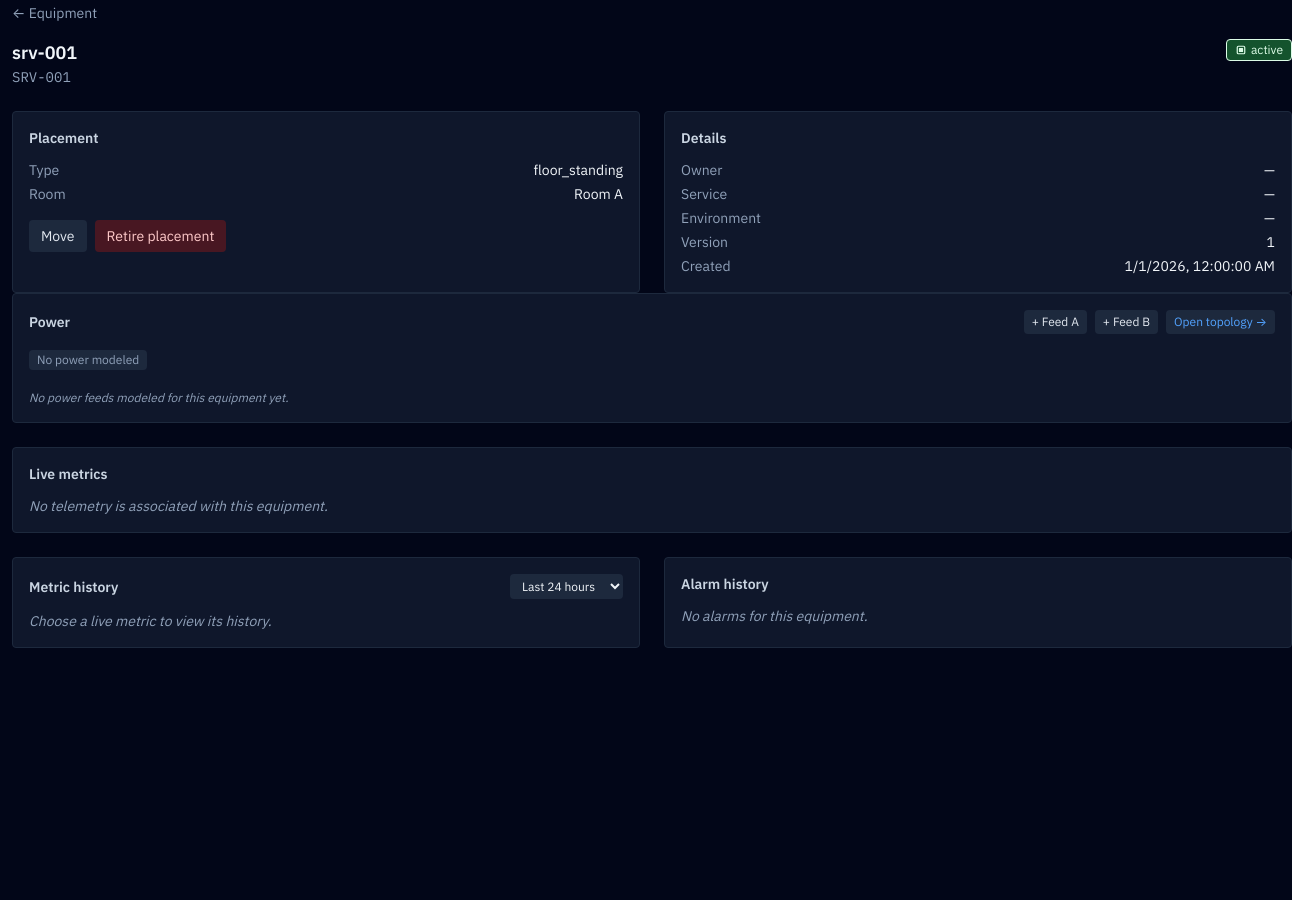
EquipmentDetailPage — move mutation error announcement › announces a 409 move conflict immediately via role=alert, not silent red text
The image size is (1292, 900).
Click the button "Move" at {"x": 58, "y": 236}, box [29,220,87,252]
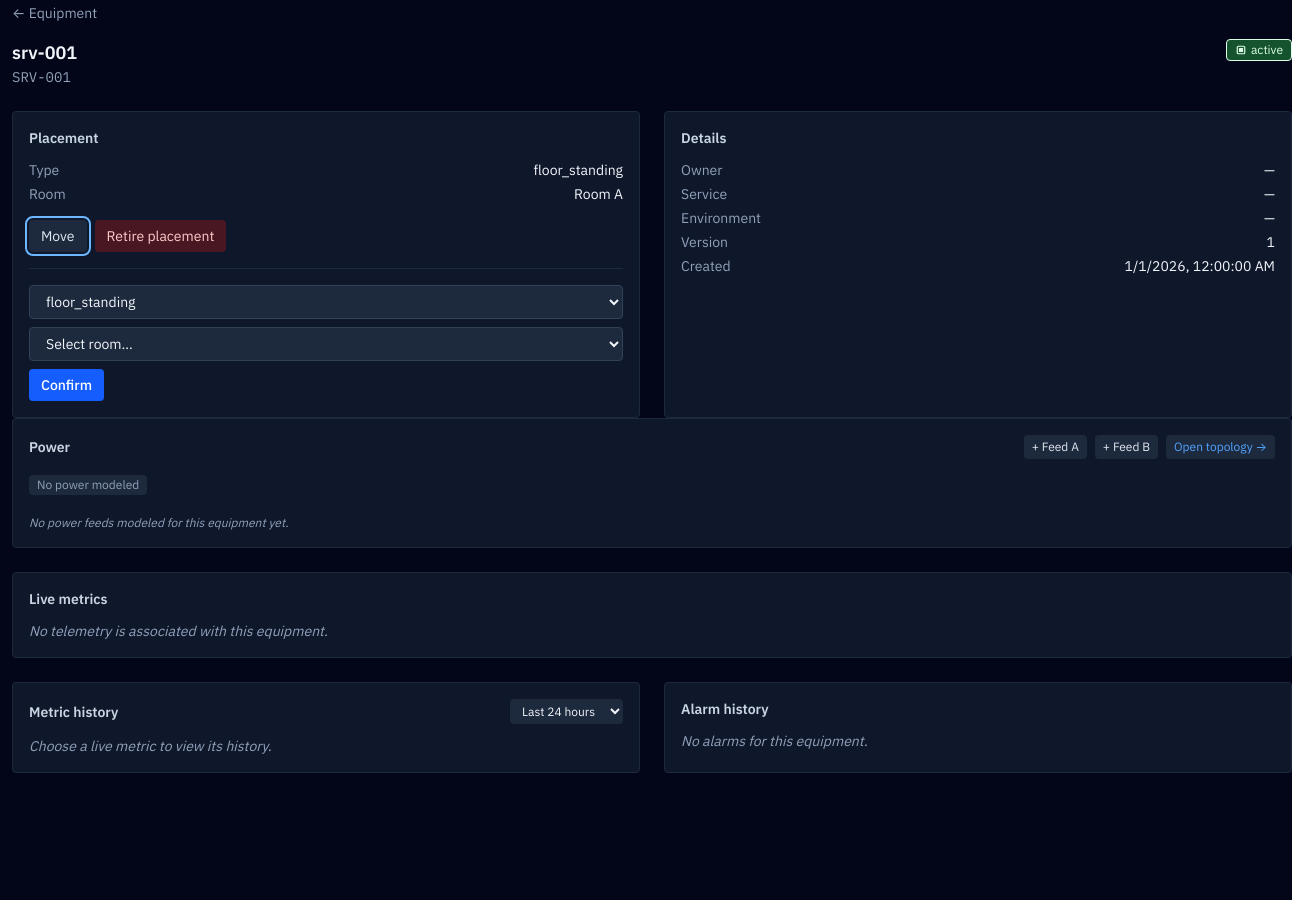
Select "Room A (A)" in the dropdown named "Placement room" at {"x": 326, "y": 344}, box [29,327,623,361]
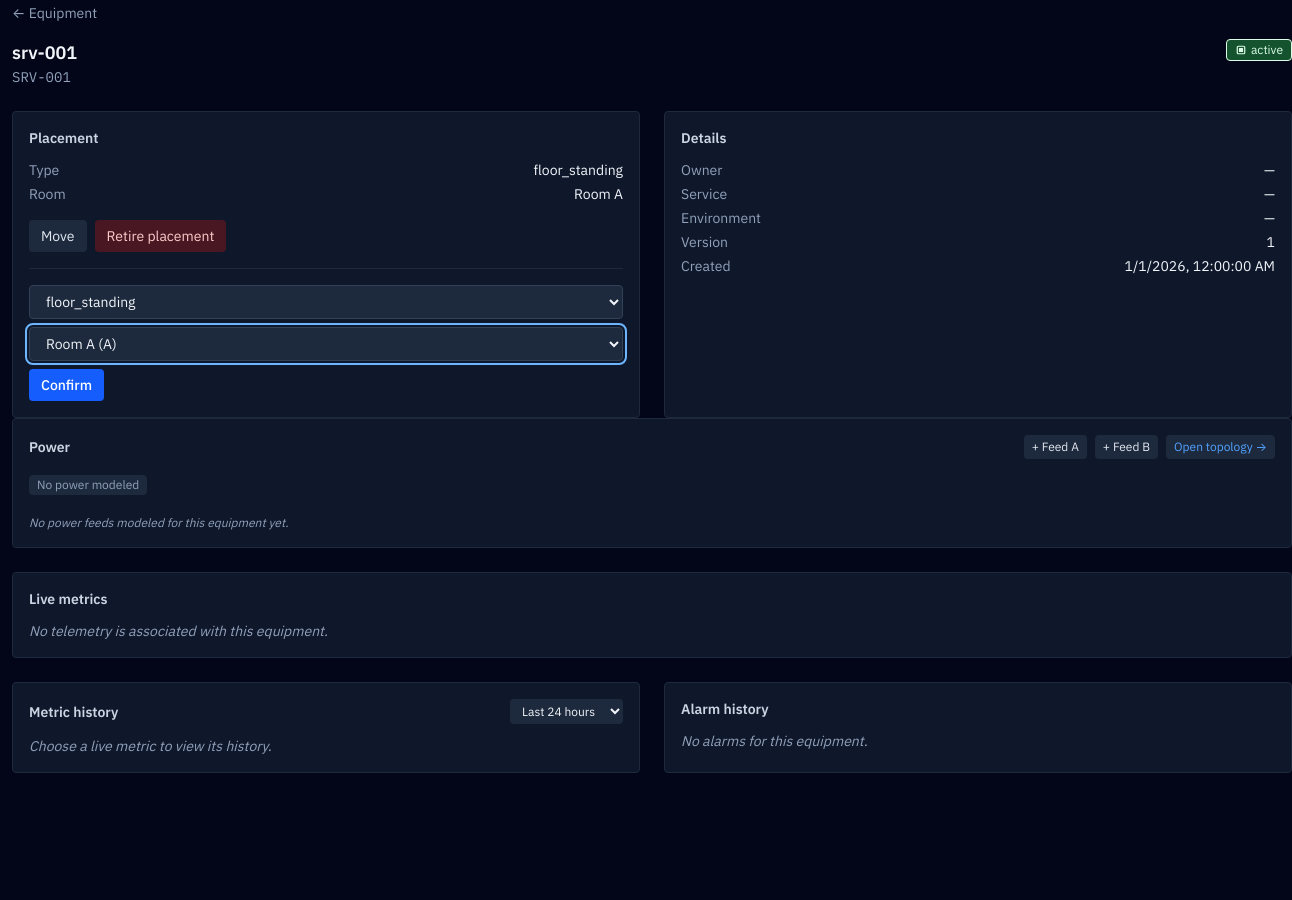
Click the button "Confirm" at {"x": 66, "y": 385}, box [29,369,104,401]
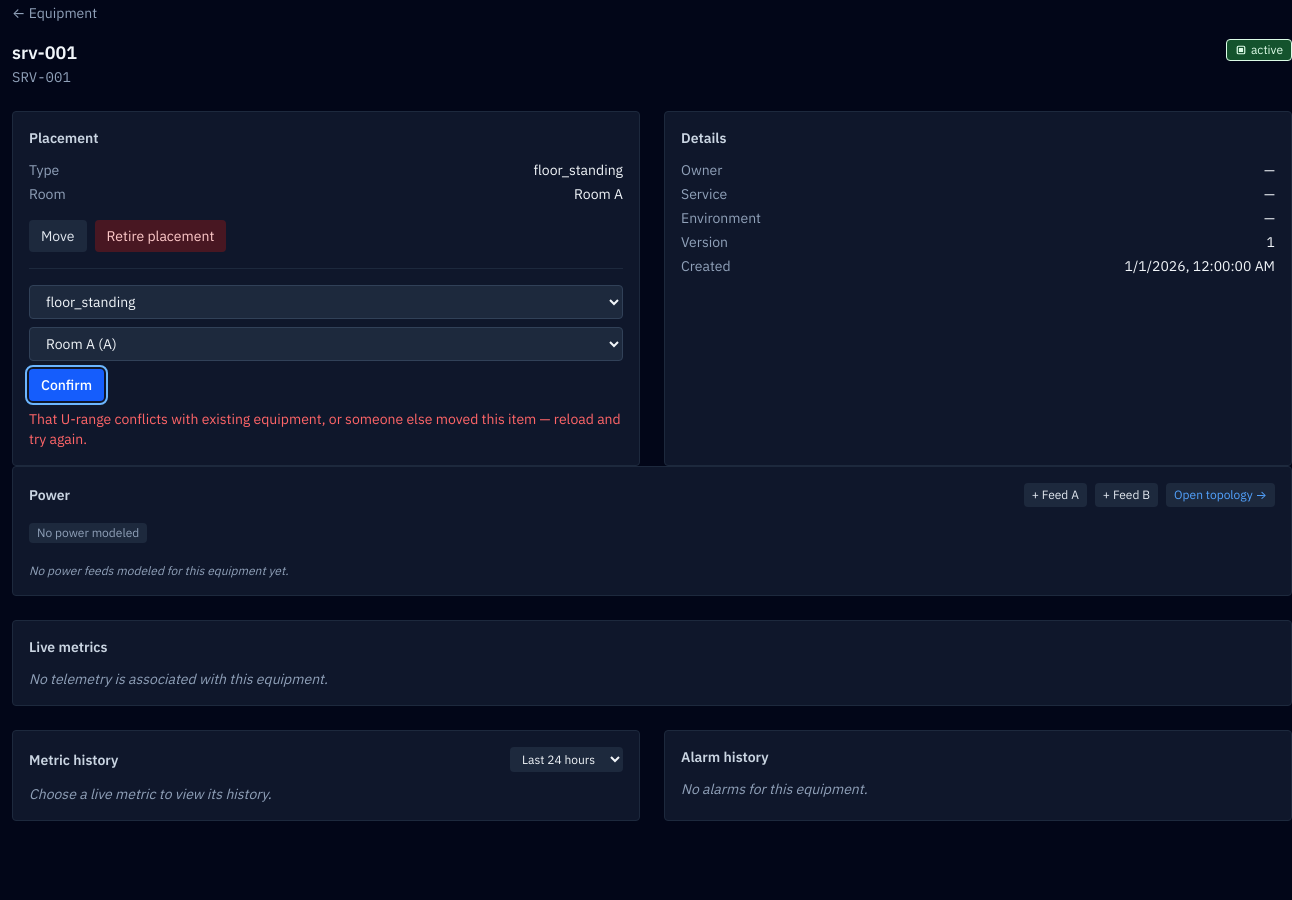
Expected: the message shows "That U-range conflicts with existing equipment, or someone else moved this item — reload and try again.", [29,410,621,448]
